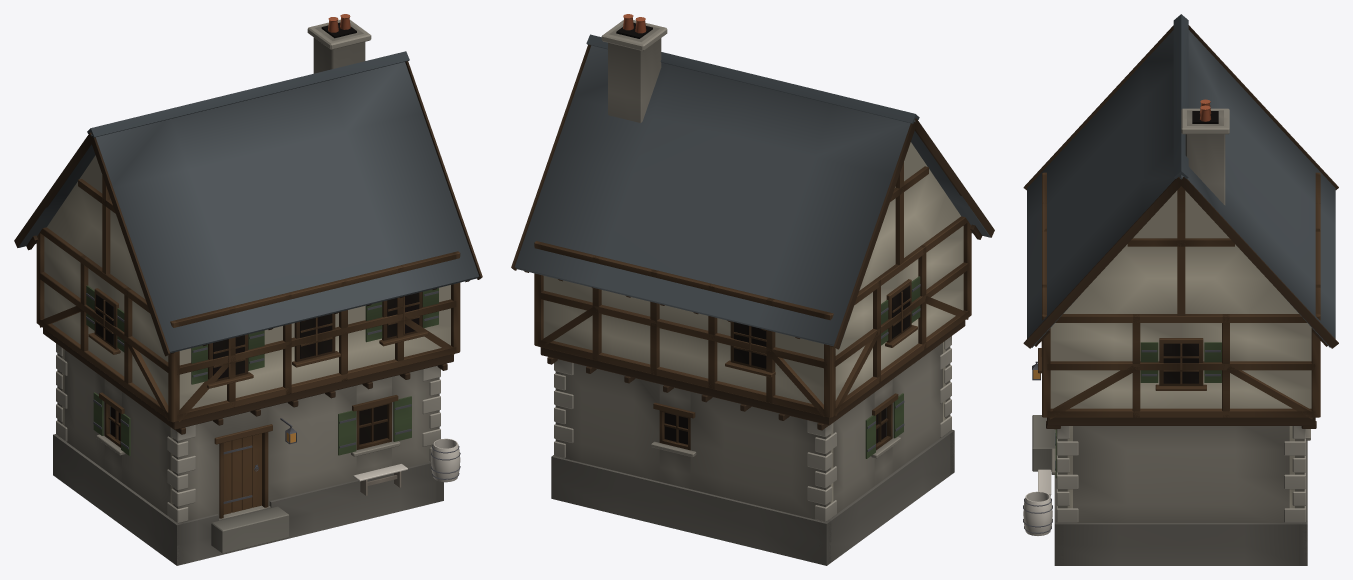
The model's file is house_a.glb.
3 views of the same model, side by side, from view 1: azimuth 30°, elevation 25°; view 2: azimuth 150°, elevation 25°; view 3: azimuth 270°, elevation 25° (orthographic). The views are drawn at different scales.
Visible parts, largest first — view 1: ext, door0; view 2: ext; view 3: ext, int.
Boxes of the visible parts, bbox=[...] form: ext: bbox=[14, 14, 482, 565]; door0: bbox=[223, 433, 261, 514]; ext: bbox=[511, 14, 994, 565]; ext: bbox=[1023, 14, 1338, 565]; int: bbox=[1067, 426, 1294, 508].
Size of the model in its own units: 8.44 by 11.16 by 7.17.
